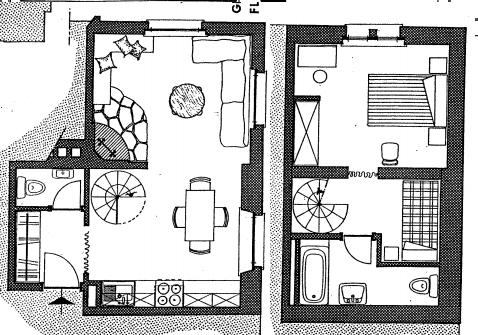bathroom: (298, 238, 440, 307), (17, 168, 84, 208)
door: (42, 250, 80, 291), (345, 227, 374, 269), (50, 179, 84, 213)
perimeter: (8, 19, 263, 317), (285, 22, 462, 325)
stairs: (90, 171, 150, 226), (294, 179, 348, 233)
window: (238, 204, 265, 278), (337, 22, 410, 46), (246, 65, 268, 133), (142, 18, 208, 37)
